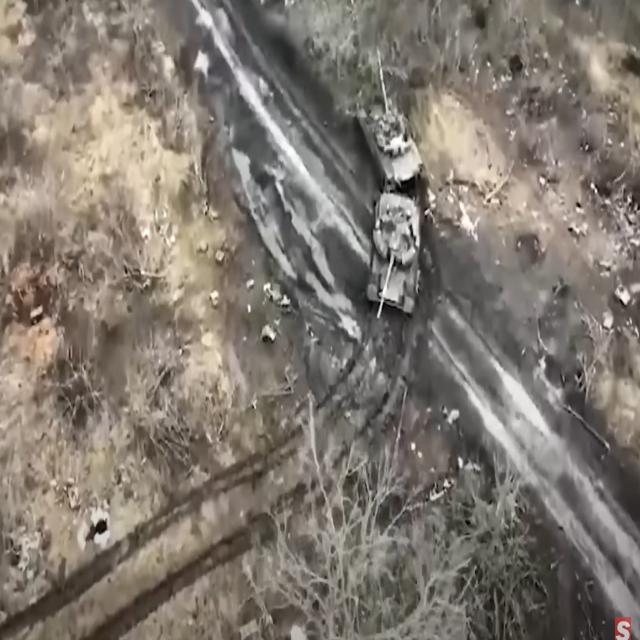MBT: (358, 47, 424, 191), (365, 192, 423, 322)
